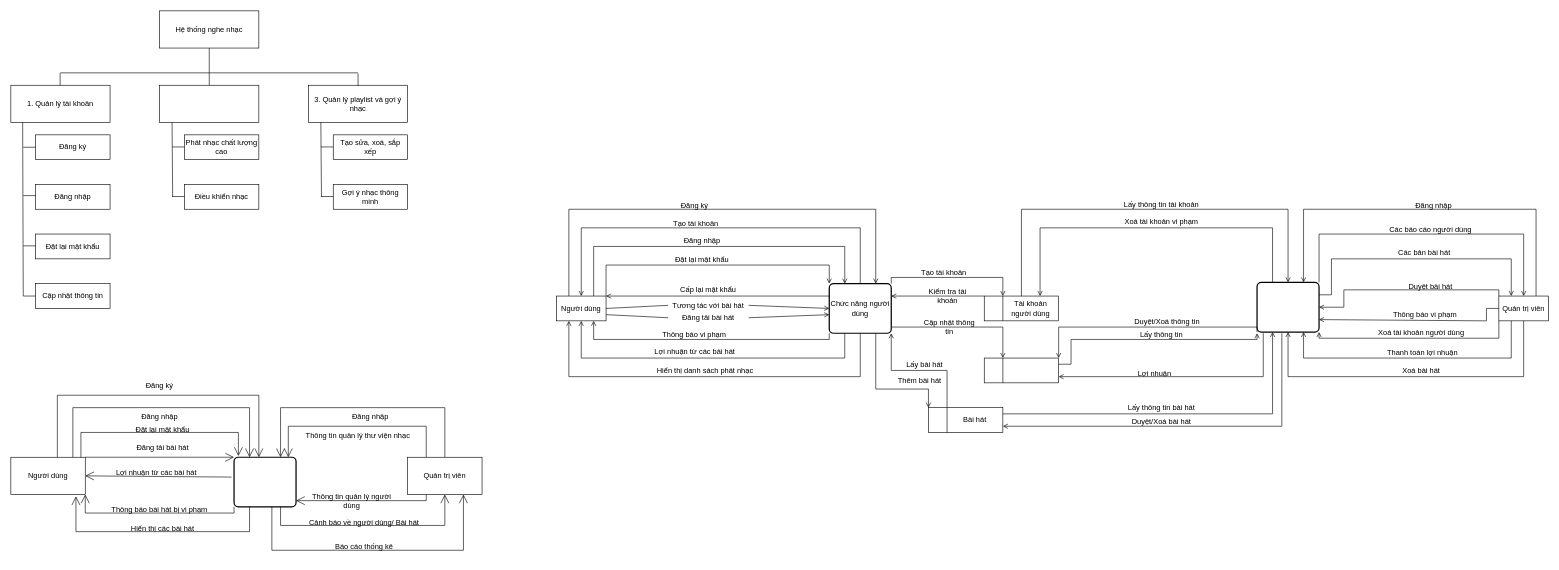
The diagram is 1559 pixels wide and 570 high, and some of its shapes have lost their labels. The shapes that lost their labels are listed below. From the top down, each one's centre as x and y in pixels, then its label:
At (x=209, y=103): "2. Chức năng phát".
At (x=1287, y=306): "Chức năng quản lý".
At (x=1021, y=370): "Thông tin người dùng".
At (x=264, y=481): "Hệ thống".
